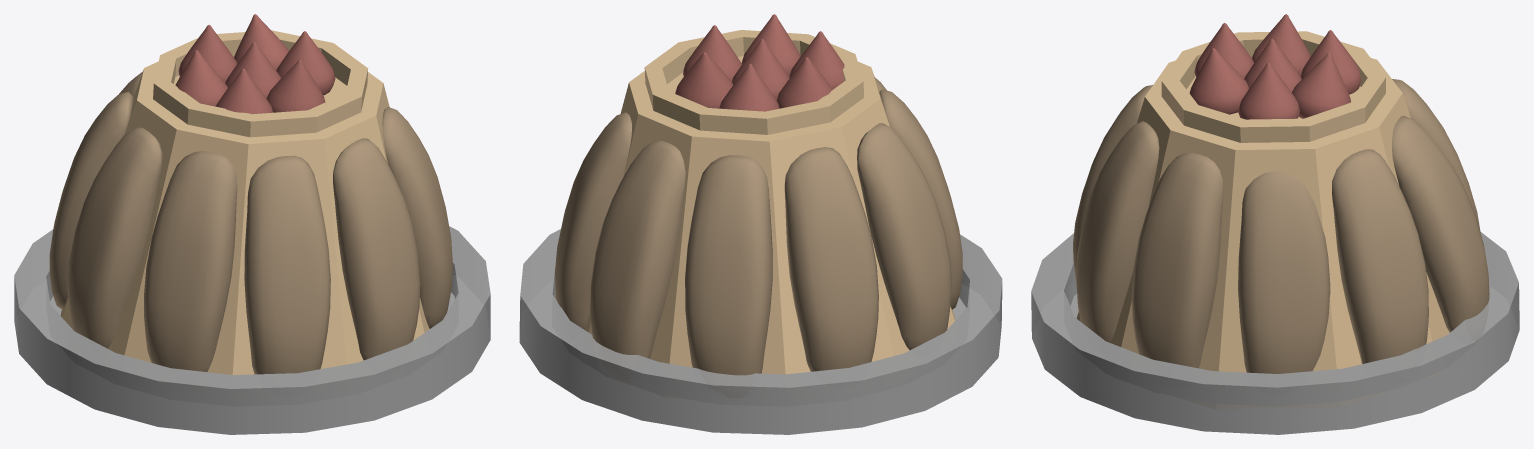
File: Charlotte_aux_fraises.fbx
3 views of the same model, side by side, from view 1: azimuth 30°, elevation 25°; view 2: azimuth 150°, elevation 25°; view 3: azimuth 270°, elevation 25° (orthographic).
Parts seen in each view (by area): view 1: pCylinder1, Gato, Cuiller_4, Cuiller_5, Cuiller_3, Cuiller_6, Cuiller_2, Cuiller_7, Fraise_3, Fraise_4, Fraise_6, Fraise_5 (+3 smaller); view 2: pCylinder1, Gato, Cuiller_8, Cuiller_7, Cuiller_9, Cuiller_6, Cuiller_10, Cuiller_5, Fraise_7, Fraise_2, Fraise_4, Fraise_1 (+3 smaller); view 3: pCylinder1, Gato, Cuiller_1, Cuiller_2, Cuiller_10, Cuiller_9, Cuiller_3, Fraise_3, Fraise_7, Fraise_6, Cuiller_4, Cuiller_8 (+4 smaller).
Part boxes in pixels (x1,y1,x2,y2): pCylinder1: (14, 226, 490, 434); Gato: (60, 30, 429, 374); Cuiller_4: (244, 155, 330, 374); Cuiller_5: (144, 151, 237, 371); Cuiller_3: (333, 138, 420, 360); Cuiller_6: (67, 127, 162, 348); Cuiller_2: (382, 107, 452, 328); Cuiller_7: (49, 91, 133, 309); Fraise_3: (266, 60, 325, 112); Fraise_4: (175, 50, 227, 106); Fraise_6: (276, 31, 335, 95); Fraise_5: (215, 68, 273, 114); pCylinder1: (519, 229, 1002, 434); Gato: (585, 30, 955, 374); Cuiller_8: (685, 155, 772, 375); Cuiller_7: (784, 147, 878, 371); Cuiller_9: (590, 140, 685, 358); Cuiller_6: (857, 123, 951, 349); Cuiller_10: (555, 112, 631, 329); Cuiller_5: (879, 89, 962, 309); Fraise_7: (675, 52, 733, 108); Fraise_2: (719, 63, 779, 111); Fraise_4: (776, 57, 832, 108); Fraise_1: (732, 39, 789, 100); pCylinder1: (1031, 232, 1519, 434); Gato: (1076, 31, 1449, 372); Cuiller_1: (1238, 171, 1330, 373); Cuiller_2: (1131, 152, 1223, 368); Cuiller_10: (1332, 149, 1428, 363); Cuiller_9: (1392, 116, 1489, 332); Cuiller_3: (1076, 121, 1159, 342); Fraise_3: (1189, 48, 1249, 114); Fraise_7: (1292, 52, 1350, 118); Fraise_6: (1238, 62, 1300, 119); Cuiller_4: (1073, 85, 1152, 280); Cuiller_8: (1392, 79, 1480, 232).
Size of the model in its own units: 3.79 by 2.57 by 3.79.
